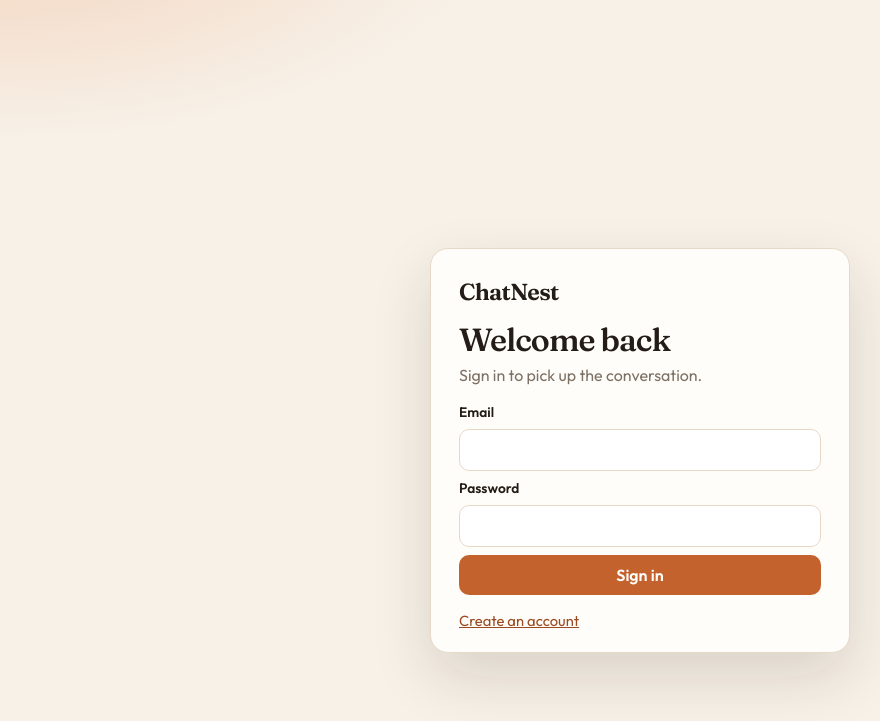
Test: shows the server error when the password is wrong
This screenshot has width=880, height=721.
Type "alice@example.com" into the field labelled "Email" at (640, 450), box [459,428,821,470]
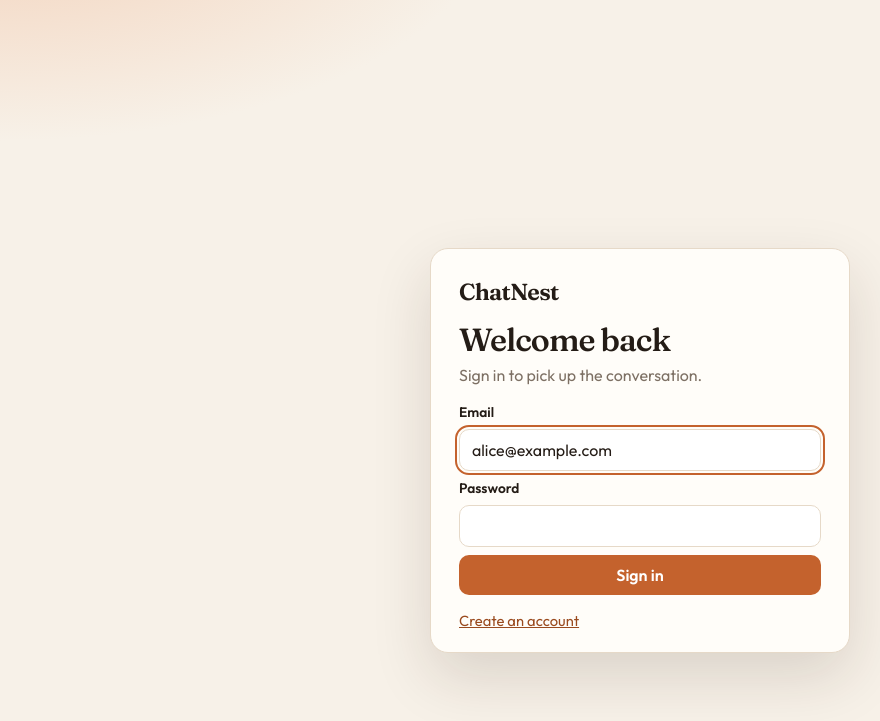
Type "wrongpass1" into the password field labelled "Password" at (640, 526), box [459,504,821,546]
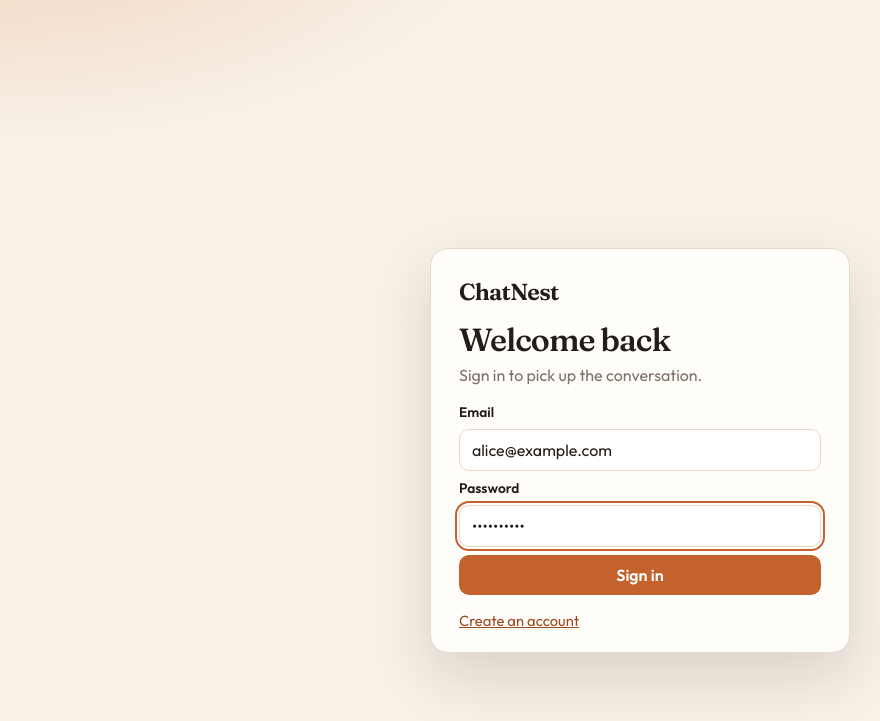
Click the button "Sign in" at (640, 574), box [459,554,821,594]
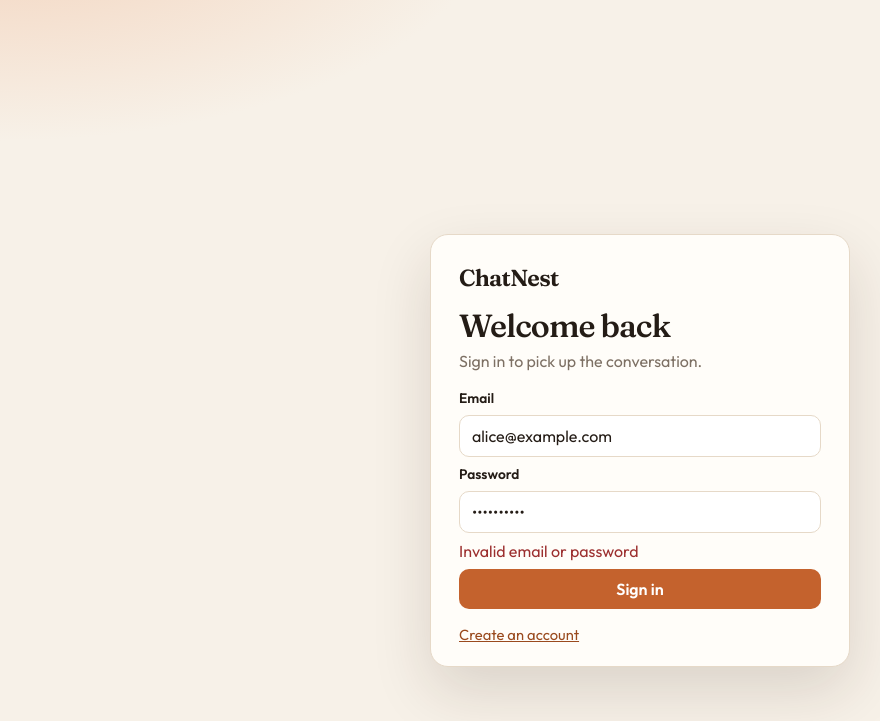
Result: the message reads "Invalid email or password" at [459,540,639,560]
